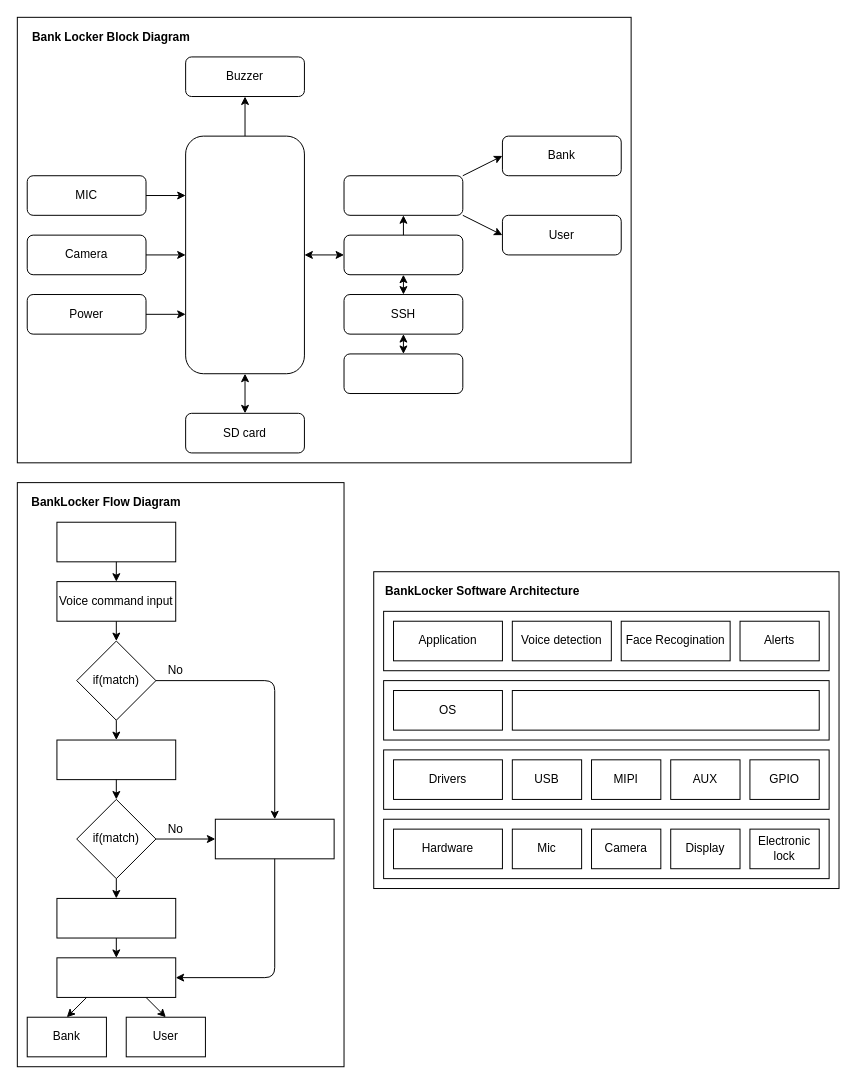
Some shapes in this 856 by 1084 pixel diagram are drawn without their labels. The centre of each missing label's shape, as x and y in pixels:
"Capture Face" belongs at (x=274, y=838).
"EMAIL" belongs at (x=403, y=195).
"Face Recogimation" belongs at (x=116, y=759).
"INTERNET" belongs at (x=403, y=254).
"Open Door" belongs at (x=116, y=917).
"PC" belongs at (x=403, y=373).
"Rasberry Pi" belongs at (x=244, y=254).
"Rasberry Pi OS" belongs at (x=665, y=710).
"Send Alert" belongs at (x=116, y=977).
"Start" belongs at (x=116, y=541).
